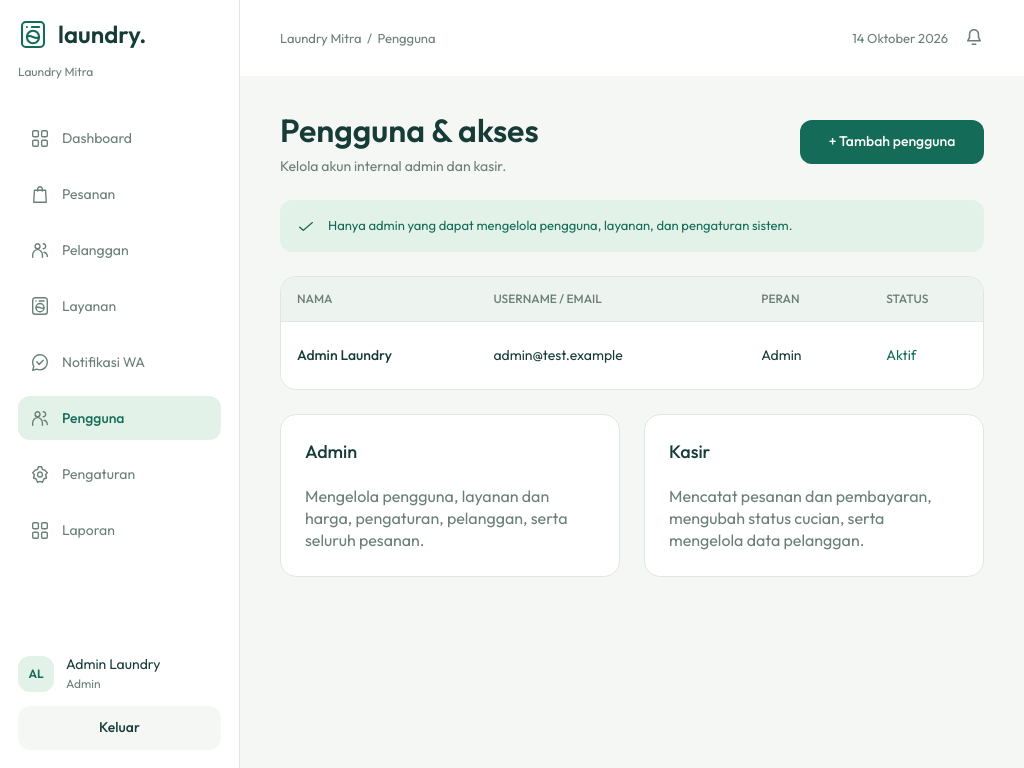
Test: lists accounts and creates an active cashier through the modal
Expected: the table is shown, top-left (281, 277), bottom-right (984, 390)
Click the button "+ Tambah pengguna" at [892, 142], box top-left (800, 120), bottom-right (984, 164)
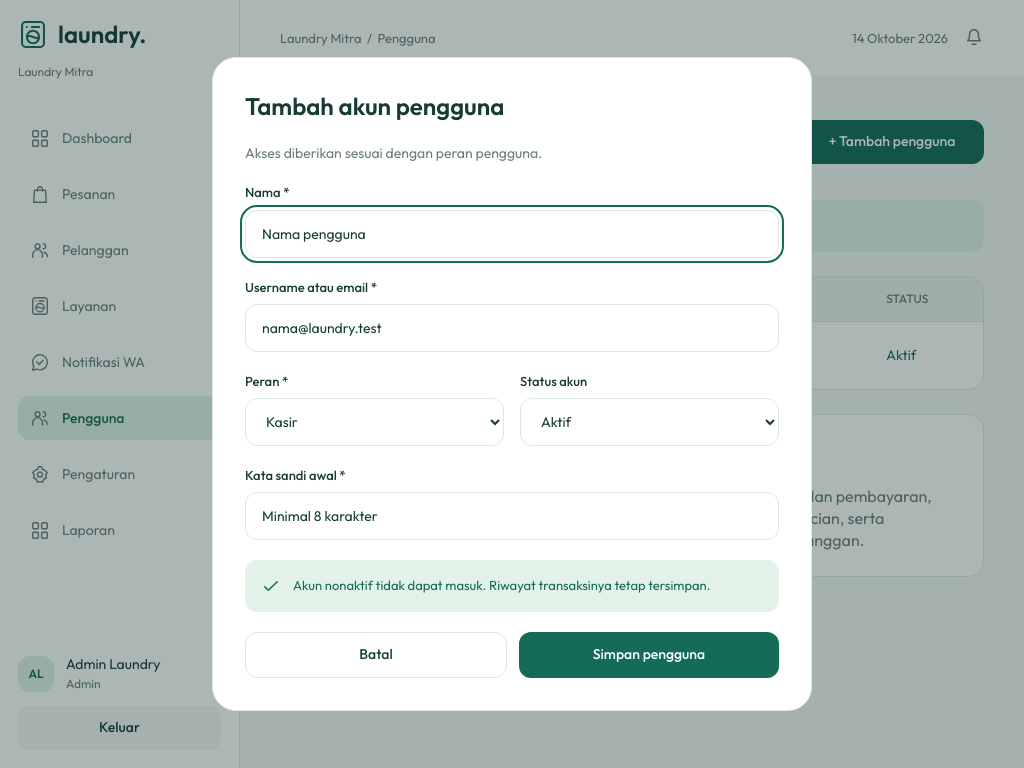
Type "Kasir Baru" into the field labelled "Nama *" at [512, 234], box top-left (245, 210), bottom-right (779, 258)
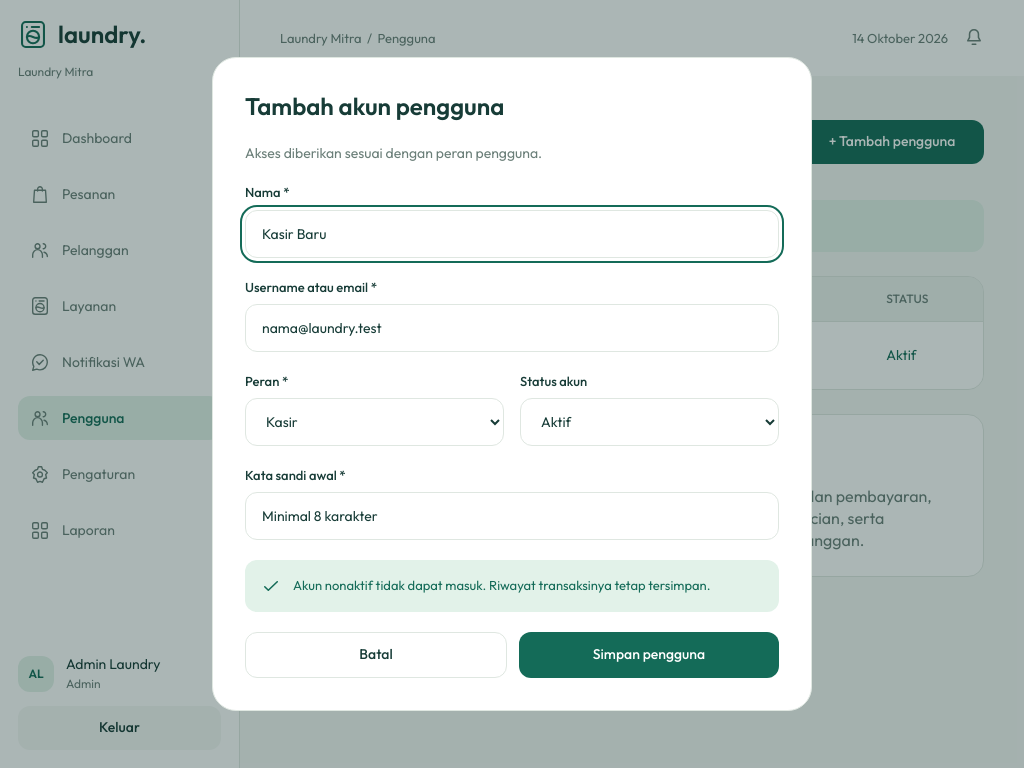
Type "cashier-new" into the field labelled "Username atau email *" at [512, 328], box top-left (245, 304), bottom-right (779, 352)
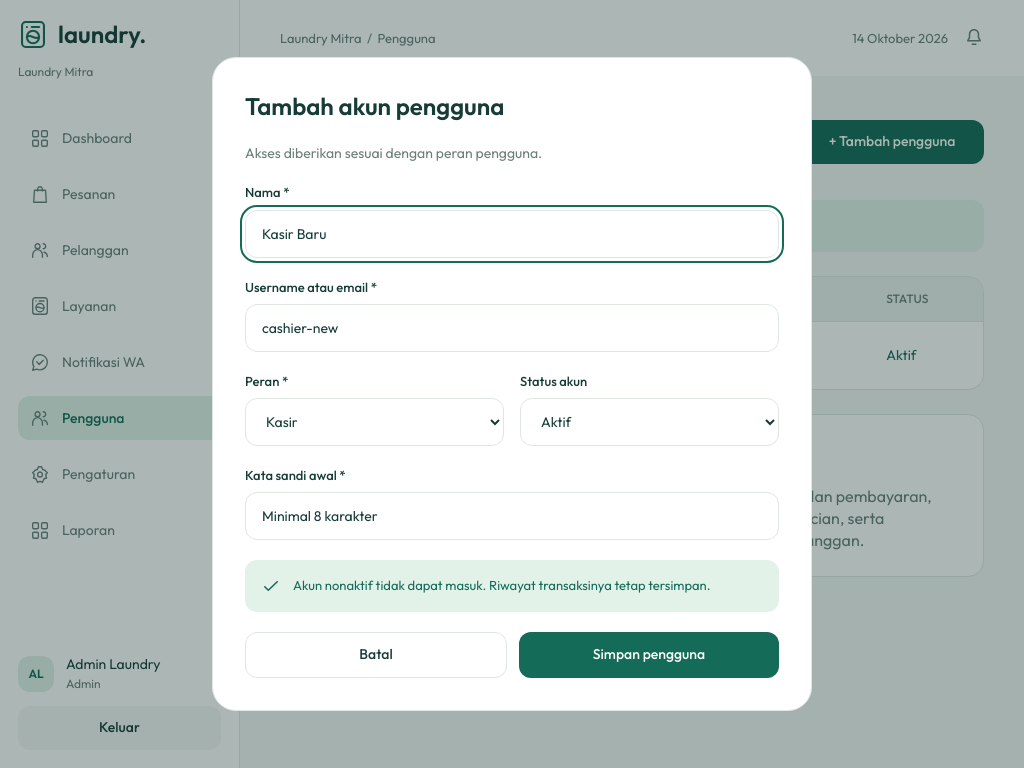
Type "password1234" into the password field labelled "Kata sandi awal *" at [512, 516], box top-left (245, 492), bottom-right (779, 540)
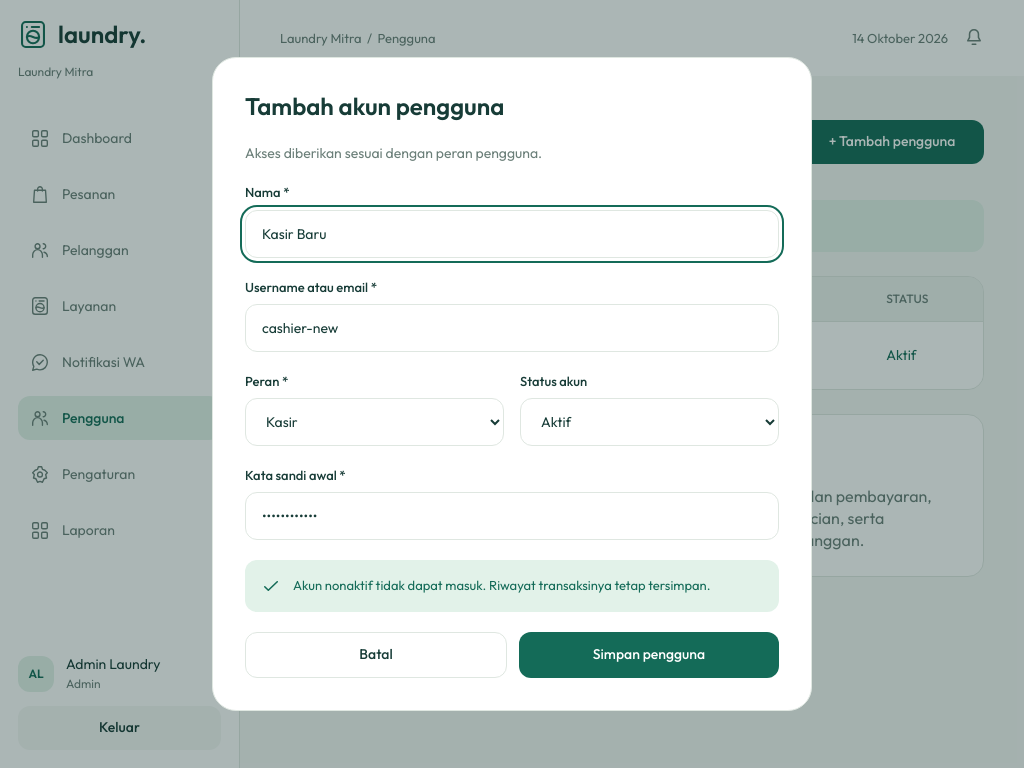
Click the button "Simpan pengguna" at [649, 655], box top-left (519, 632), bottom-right (779, 678)
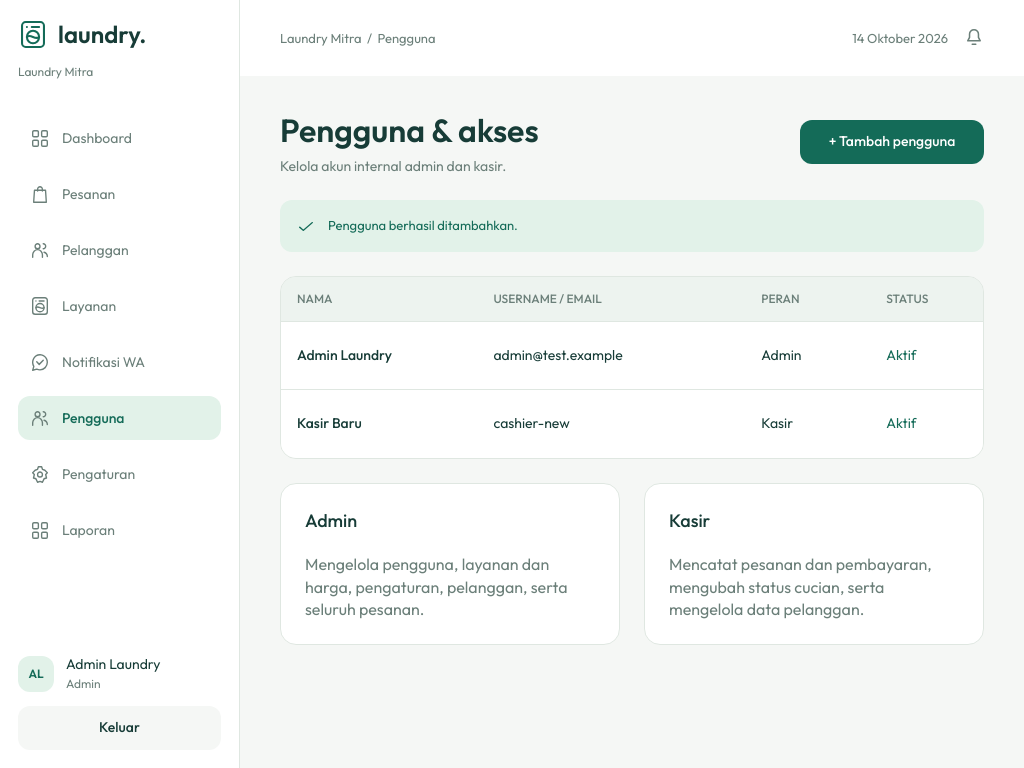
Now the text "Pengguna berhasil ditambahkan." is shown, box top-left (328, 216), bottom-right (518, 235)
Now the table shows "Kasir Baru", box top-left (297, 414), bottom-right (362, 432)
